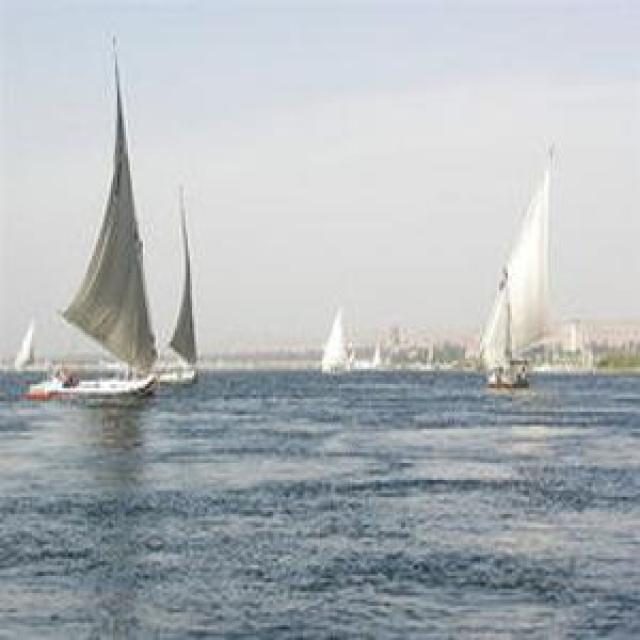sailboat: (37, 55, 161, 400), (447, 171, 588, 387), (155, 176, 209, 400)
